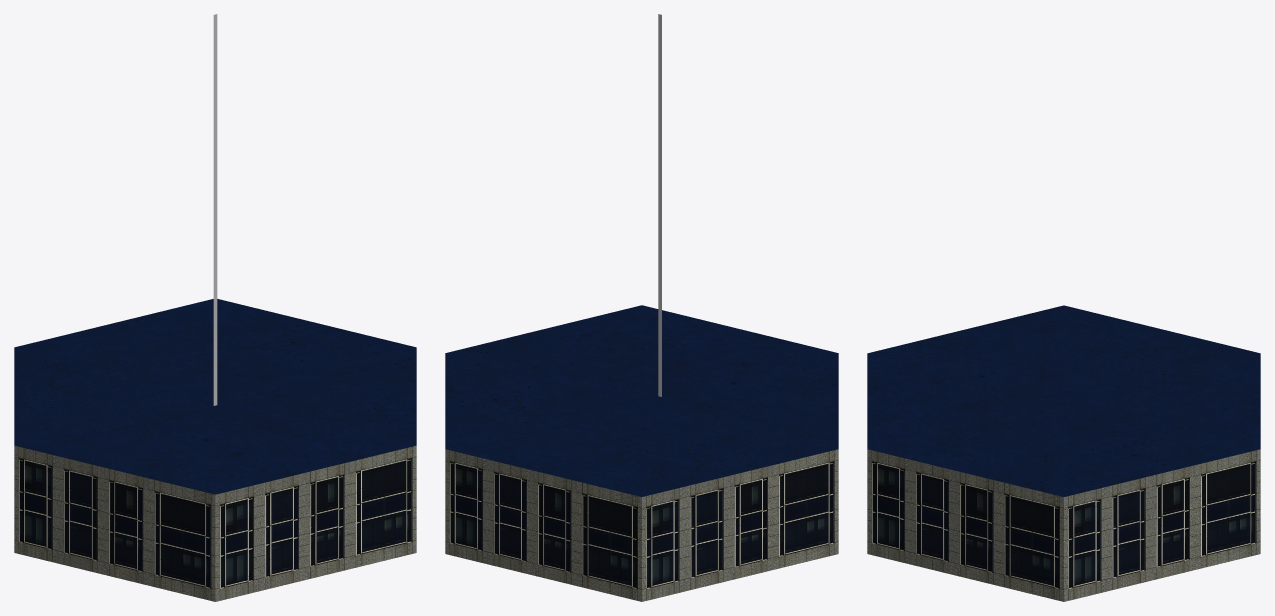
Rendered from building 3 top.FBX.
3 views of the same model, side by side, from view 1: azimuth 30°, elevation 25°; view 2: azimuth 150°, elevation 25°; view 3: azimuth 270°, elevation 25° (orthographic). The views are drawn at different scales.
Visible parts, largest first — view 1: Group1, building_p; view 2: Group1, building_p; view 3: Group1.
Boxes of the visible parts, x1,y1,x2,y2 form: Group1: [14, 299, 416, 601]; building_p: [213, 14, 217, 405]; Group1: [445, 305, 838, 601]; building_p: [658, 14, 661, 396]; Group1: [867, 305, 1260, 601].
Size of the model in its own units: 314 by 372 by 272.
